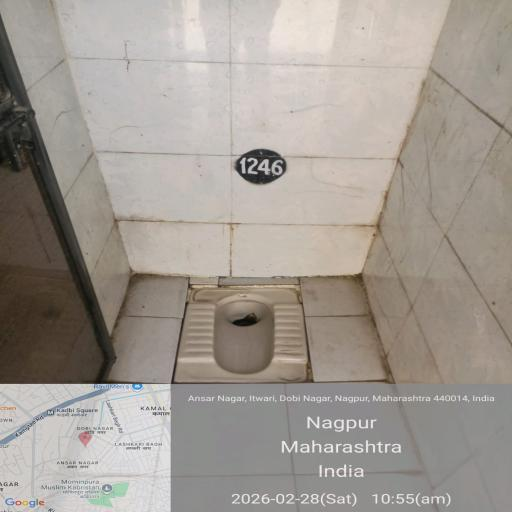clean_indian: (176, 281, 347, 399)
partial_dirty_floor: (68, 32, 512, 243), (114, 288, 500, 512)
